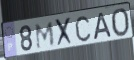8: (19, 24, 34, 53)
A: (93, 11, 113, 41)
C: (74, 14, 92, 43)
M: (35, 20, 56, 51)
O: (110, 7, 130, 39)
X: (54, 15, 75, 49)
